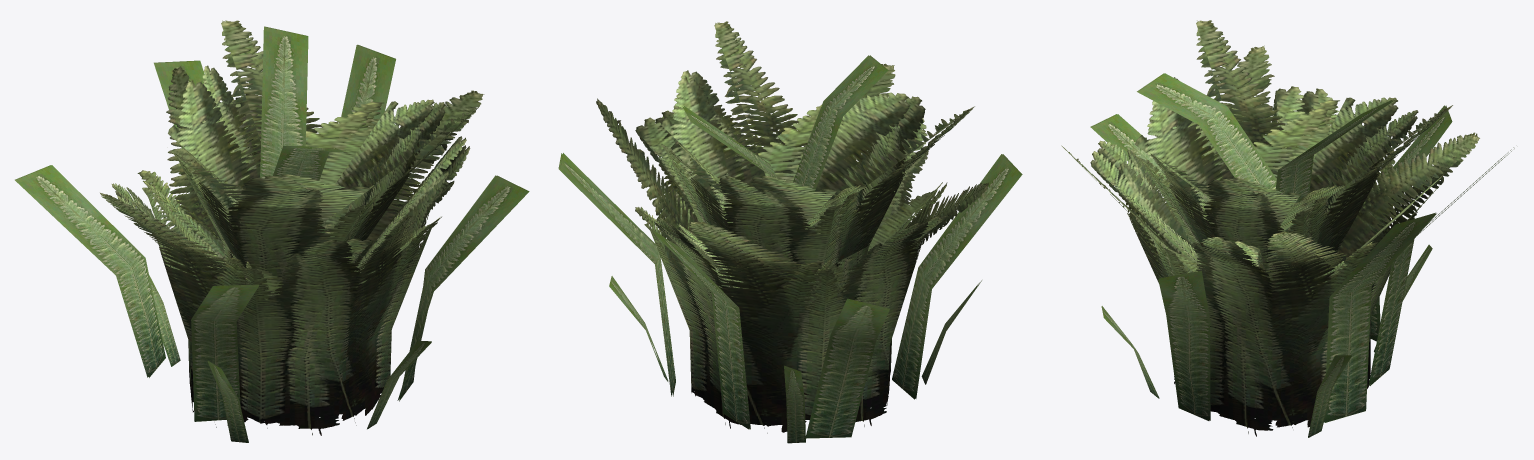
File: frst_fern_green_longleaf_l1.fbx
3 views of the same model, side by side, from view 1: azimuth 30°, elevation 25°; view 2: azimuth 150°, elevation 25°; view 3: azimuth 270°, elevation 25° (orthographic).
Parts seen in each view (by area): view 1: mesh_node; view 2: mesh_node; view 3: mesh_node.
Part boxes in pixels (<box>): mesh_node: <box>15,20,529,442</box>; mesh_node: <box>558,21,1022,443</box>; mesh_node: <box>1061,20,1514,437</box>.
Size of the model in its own units: 5.02 by 3.86 by 5.13.
